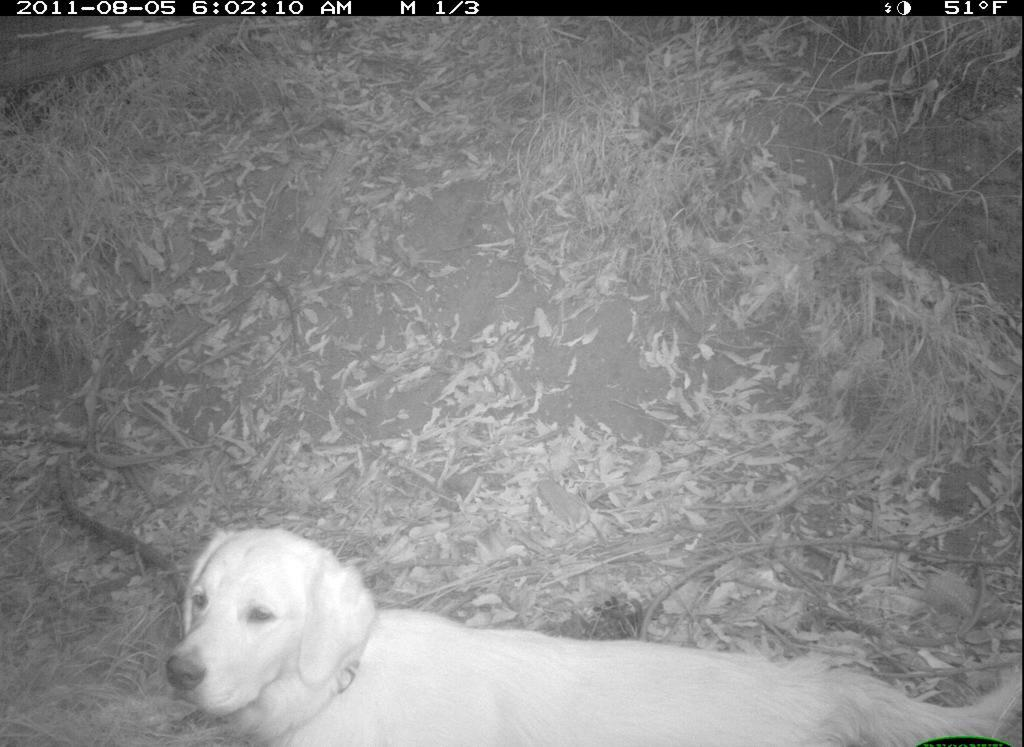dog: (163, 521, 1021, 743)
